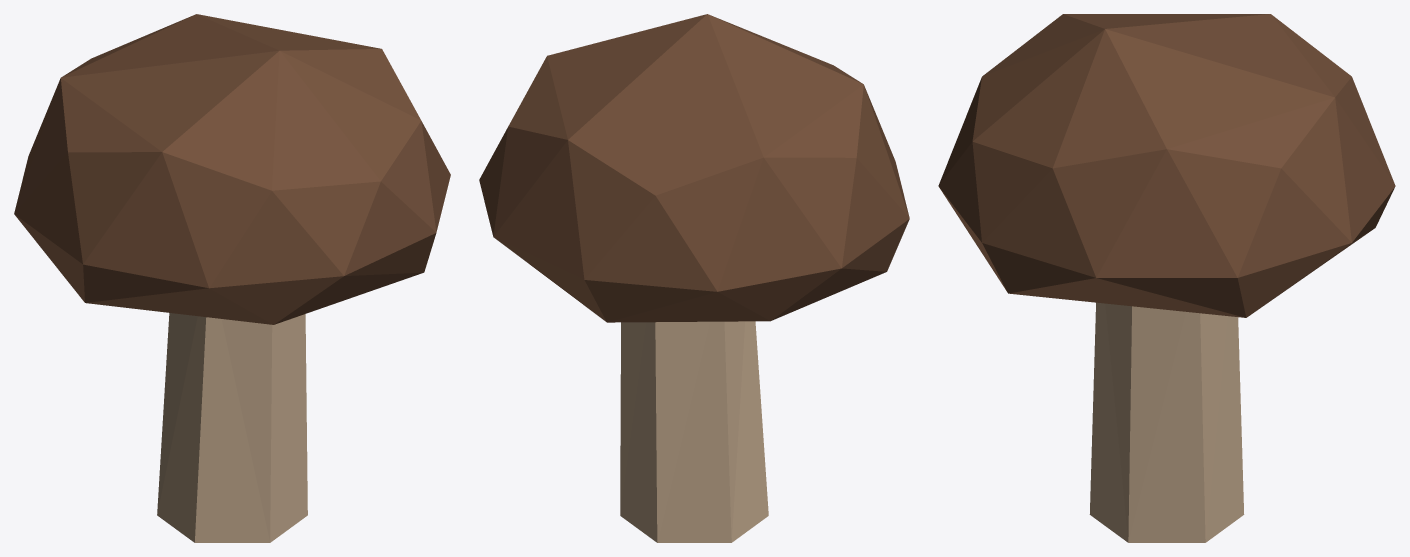
File: Mushroom_02.fbx
The picture shows the model from 3 angles, left to right: view 1: azimuth 30°, elevation 25°; view 2: azimuth 150°, elevation 25°; view 3: azimuth 270°, elevation 25°; orthographic projection. The views are drawn at different scales.
Visible parts, largest first — view 1: Mushroom_02; view 2: Mushroom_02; view 3: Mushroom_02.
Boxes of the visible parts, <box> form: Mushroom_02: <box>14,14,450,542</box>; Mushroom_02: <box>479,14,909,542</box>; Mushroom_02: <box>938,14,1395,542</box>.
Bounding box in the file's own units: 12.21 × 15.32 × 12.84.
